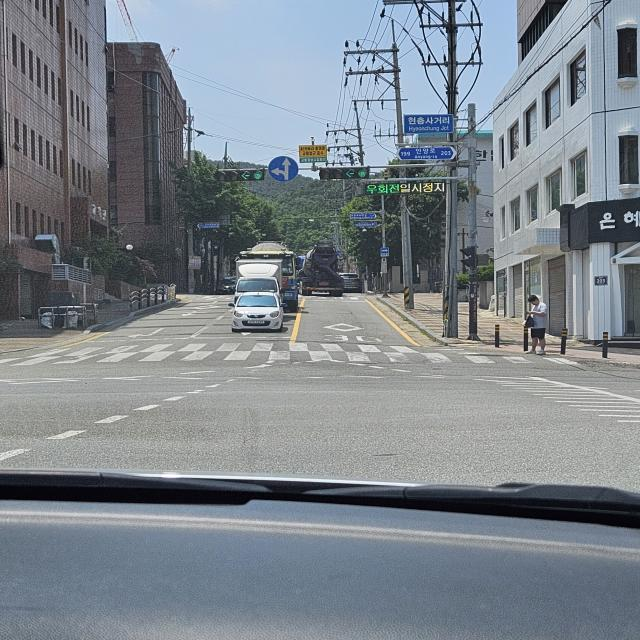Green Light: (357, 168, 368, 178), (252, 171, 263, 180)
